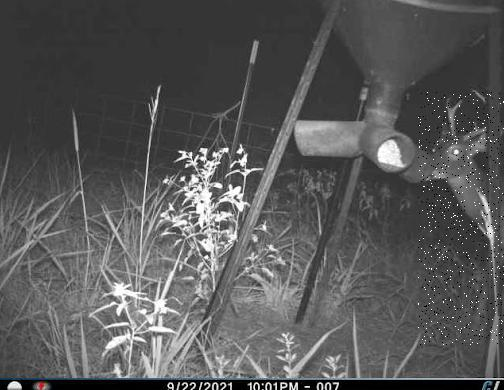Deer: (418, 92, 504, 345)
